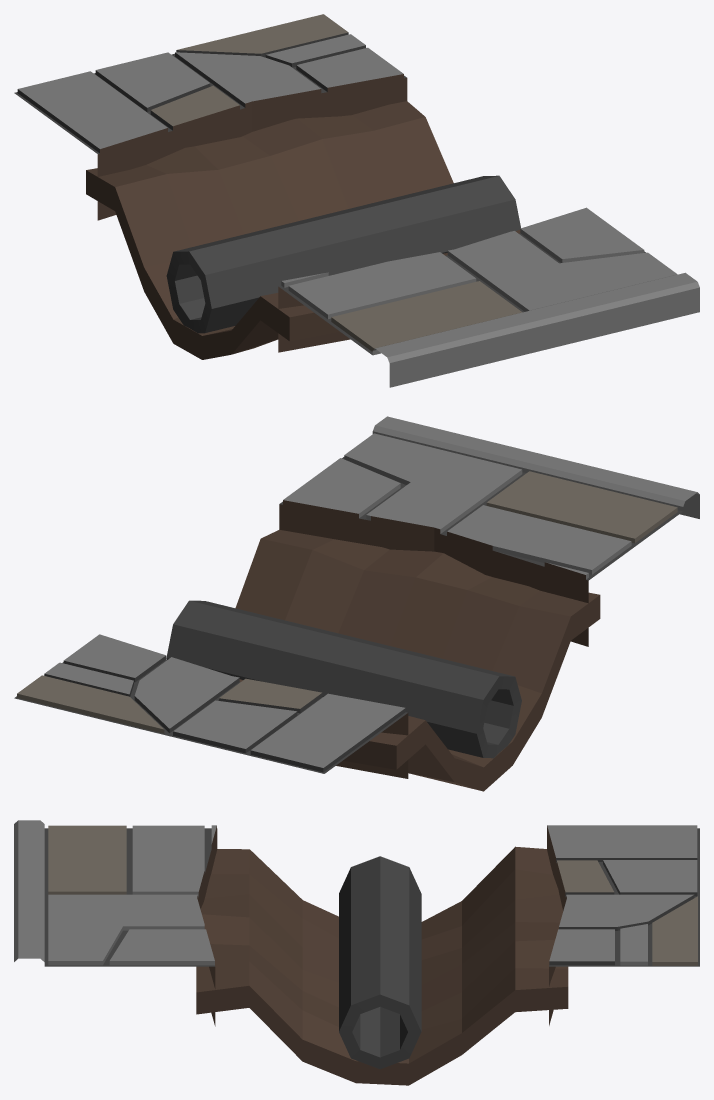
File: Walkway Modern Hole C - 2.001.fbx
The picture shows the model from 3 angles, top to bottom: view 1: azimuth 30°, elevation 25°; view 2: azimuth 150°, elevation 25°; view 3: azimuth 270°, elevation 25°; orthographic projection. The views are drawn at different scales.
Visible parts, largest first — view 1: Walkway Modern Hole C - 2.001; view 2: Walkway Modern Hole C - 2.001; view 3: Walkway Modern Hole C - 2.001.
Boxes of the visible parts, x1=… form: Walkway Modern Hole C - 2.001: x1=14, y1=14, x2=699, y2=387; Walkway Modern Hole C - 2.001: x1=14, y1=416, x2=699, y2=791; Walkway Modern Hole C - 2.001: x1=14, y1=820, x2=699, y2=1085.
Bounding box in the file's own units: 305 × 639 × 134.
